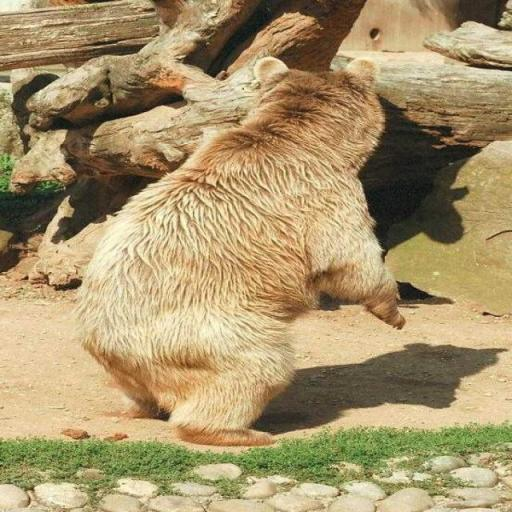Bear: (70, 54, 406, 447)
